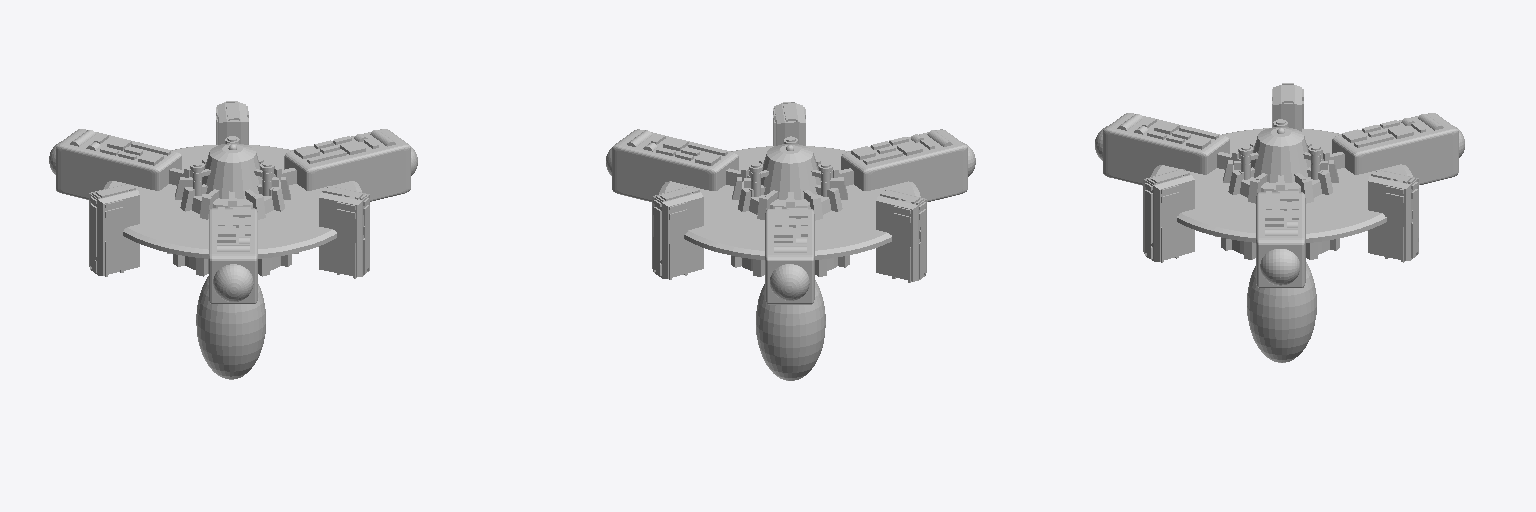
Rendered from Habitat Station.obj.
The picture shows the model from 3 angles: view 1: azimuth 30°, elevation 25°; view 2: azimuth 150°, elevation 25°; view 3: azimuth 270°, elevation 25°; orthographic projection.
Bounding box in the file's own units: 686 × 480 × 690.